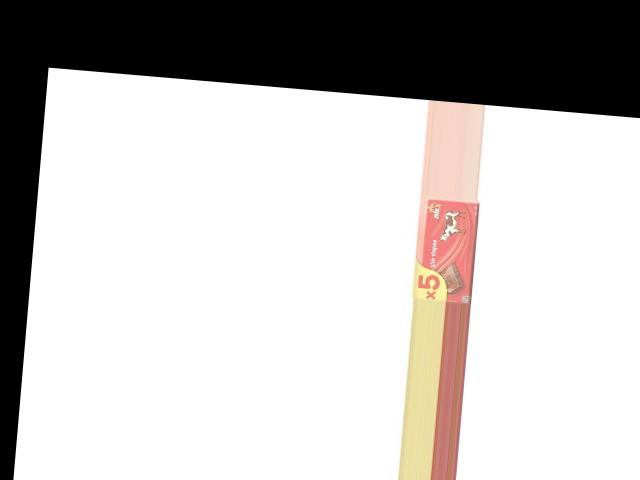chocolate: (409, 194, 479, 303)
